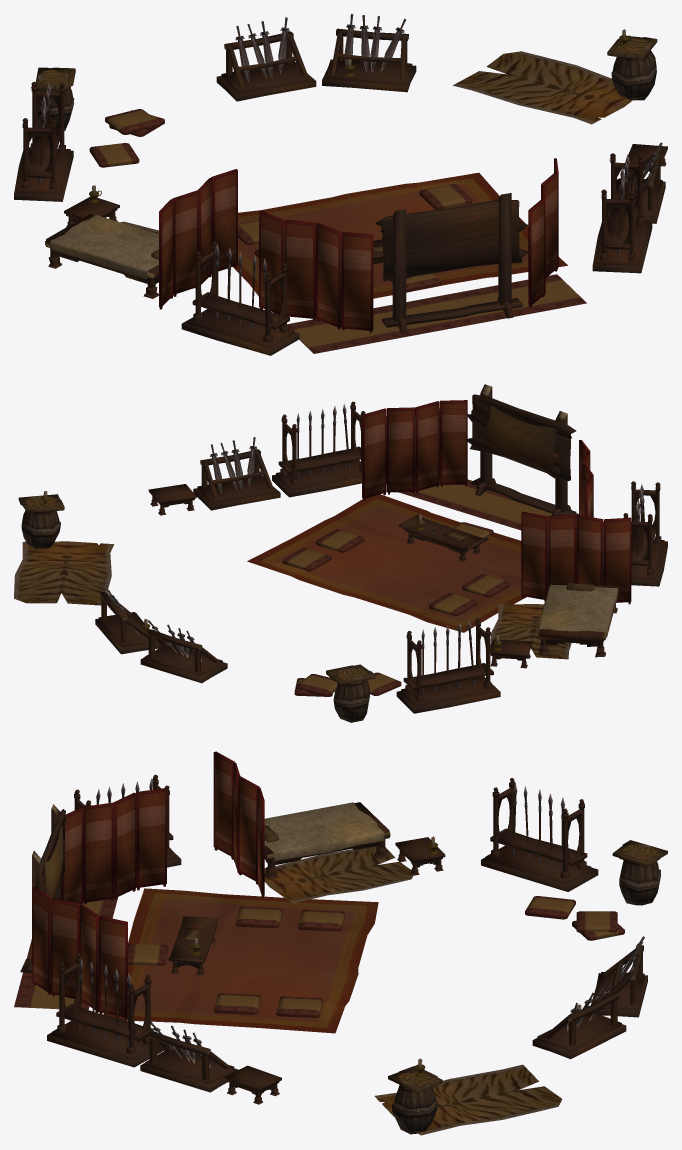
Rendered from all_daliang_field_b_s03b.fbx.
The picture shows the model from 3 angles, top to bottom: view 1: azimuth 30°, elevation 25°; view 2: azimuth 150°, elevation 25°; view 3: azimuth 270°, elevation 25°; orthographic projection. The views are drawn at different scales.
Parts seen in each view (by area): view 1: all_daliang_field_b_s03b; view 2: all_daliang_field_b_s03b; view 3: all_daliang_field_b_s03b.
Part boxes in pixels (left/top/right/bottom): all_daliang_field_b_s03b: left=14, top=14, right=667, bottom=355; all_daliang_field_b_s03b: left=14, top=384, right=667, bottom=722; all_daliang_field_b_s03b: left=14, top=751, right=667, bottom=1135.
Bounding box in the file's own units: 1900 × 343 × 1684.
